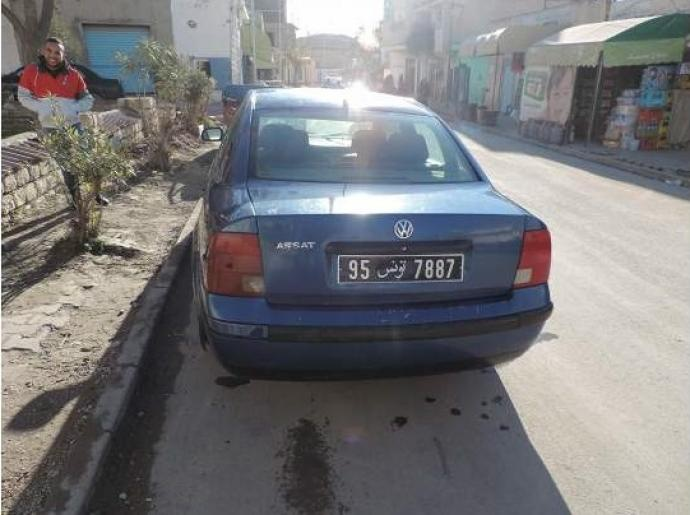LP: (335, 253, 467, 284)
